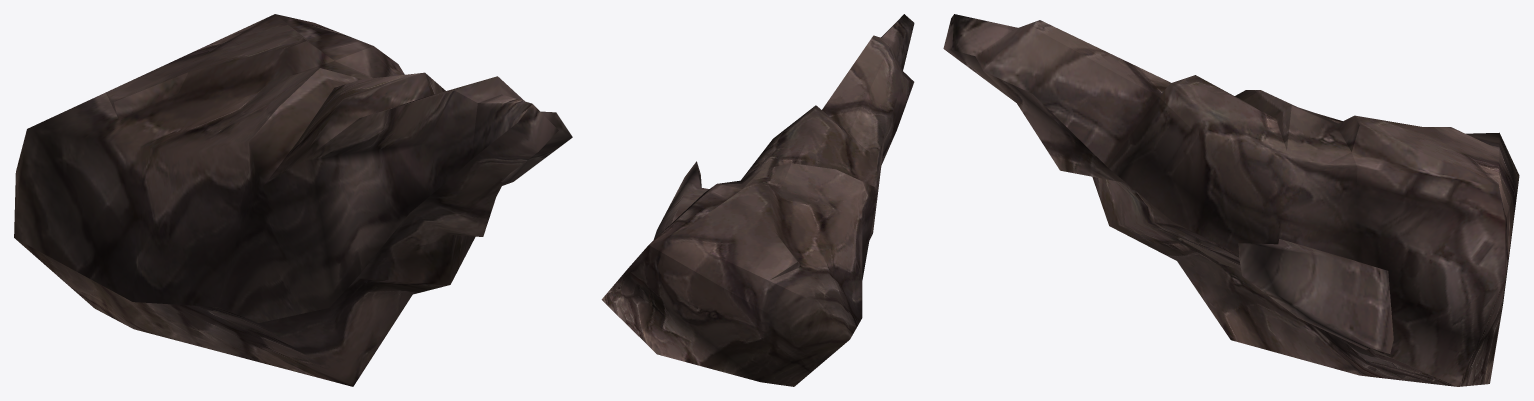
The model's file is Z_yanshi002.fbx.
3 renders of one model, left to right at view 1: azimuth 30°, elevation 25°; view 2: azimuth 150°, elevation 25°; view 3: azimuth 270°, elevation 25°, orthographic. The views are drawn at different scales.
Visible parts, largest first — view 1: objZ_yanshi002; view 2: objZ_yanshi002; view 3: objZ_yanshi002.
Boxes of the visible parts, x1,y1,x2,y2 form: objZ_yanshi002: (14, 14, 572, 386); objZ_yanshi002: (601, 14, 914, 386); objZ_yanshi002: (943, 14, 1519, 386).
Bounding box in the file's own units: 341 × 307 × 470.
